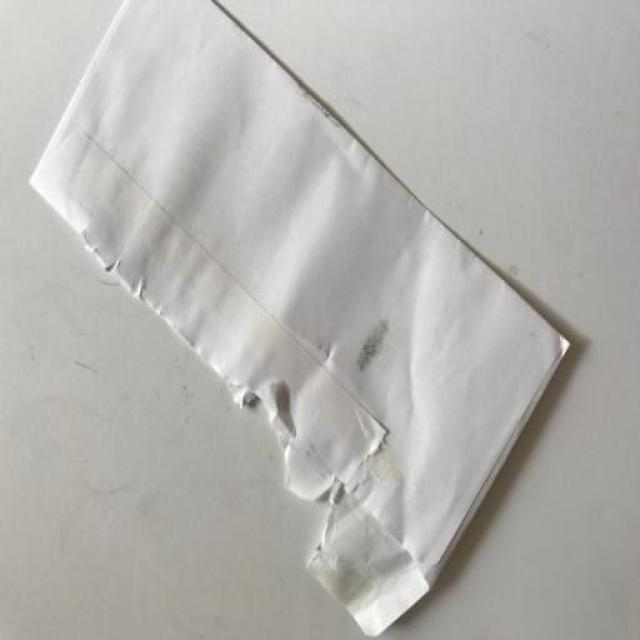paper: (14, 2, 583, 640)
